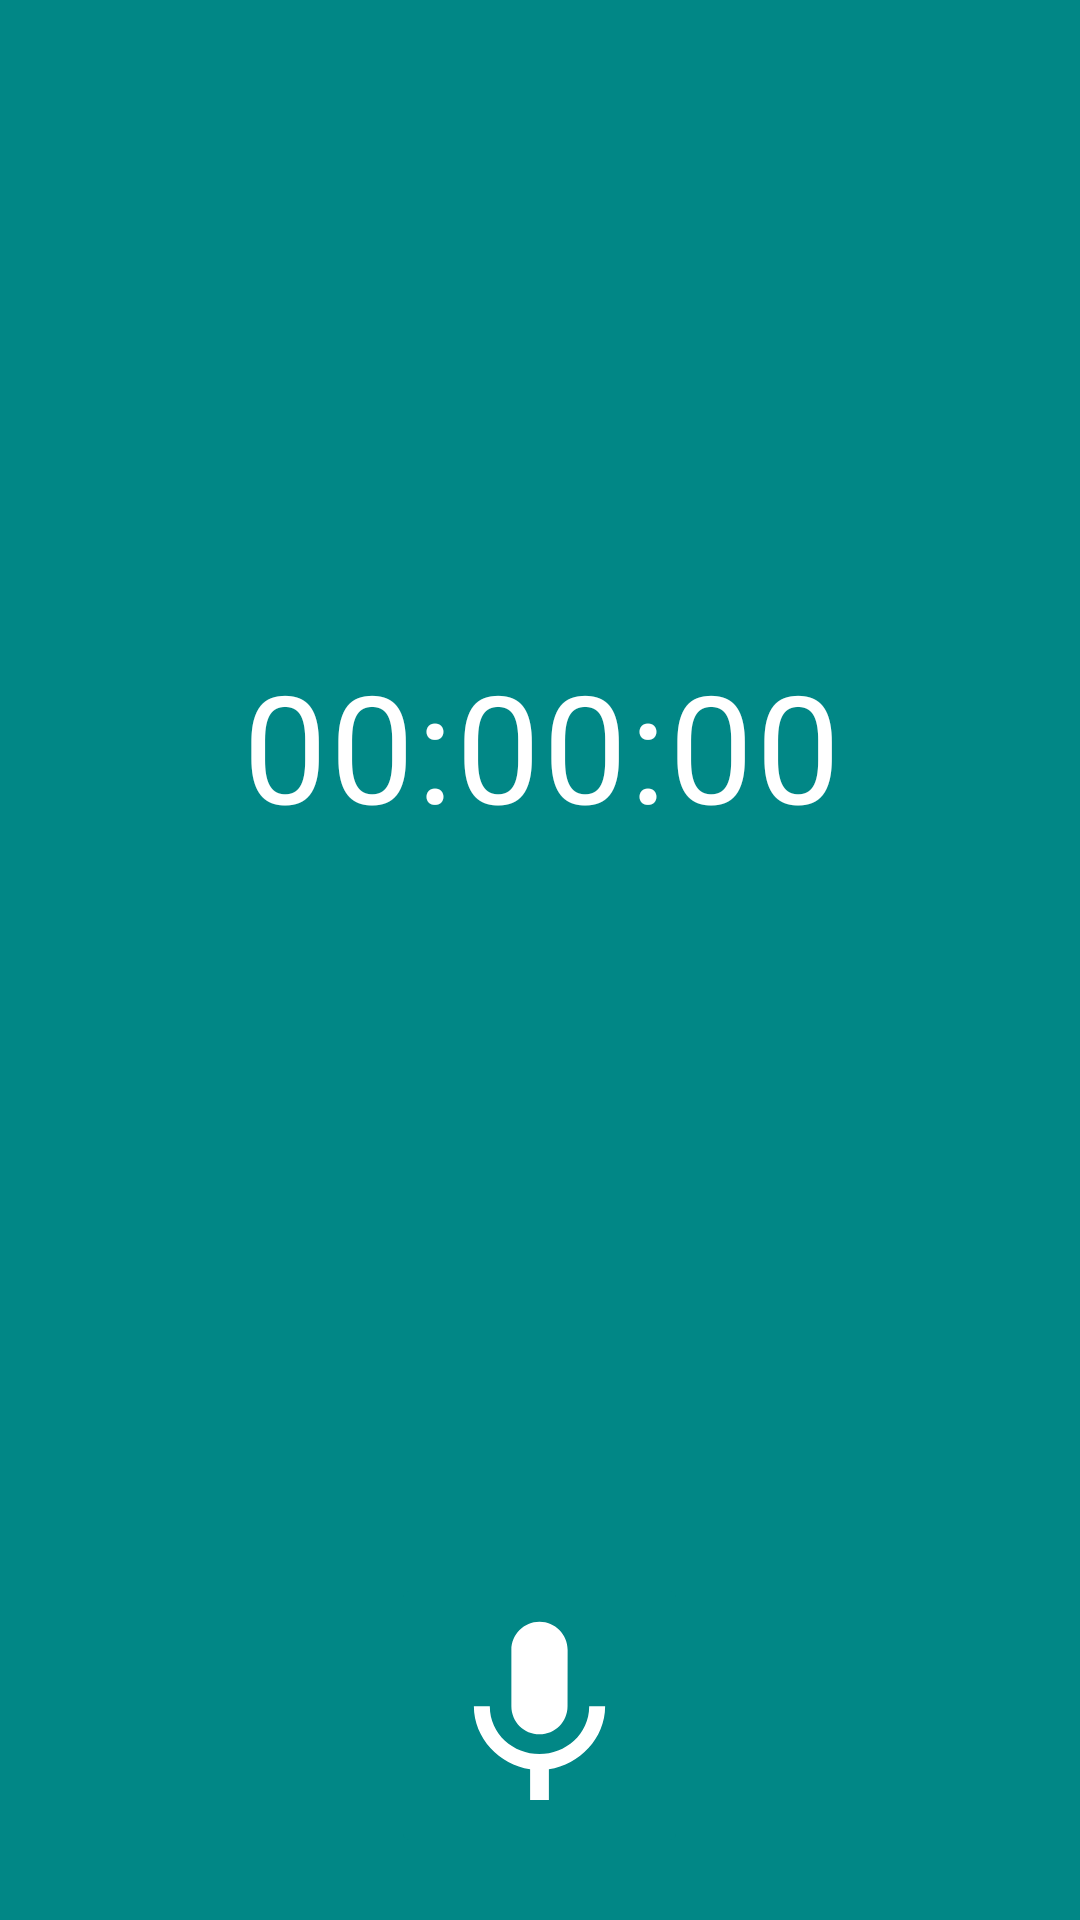

Where to tap for icons on this 1080px×1920px app screen, as (x=x, y=y):
mic: (x=539, y=1710)
